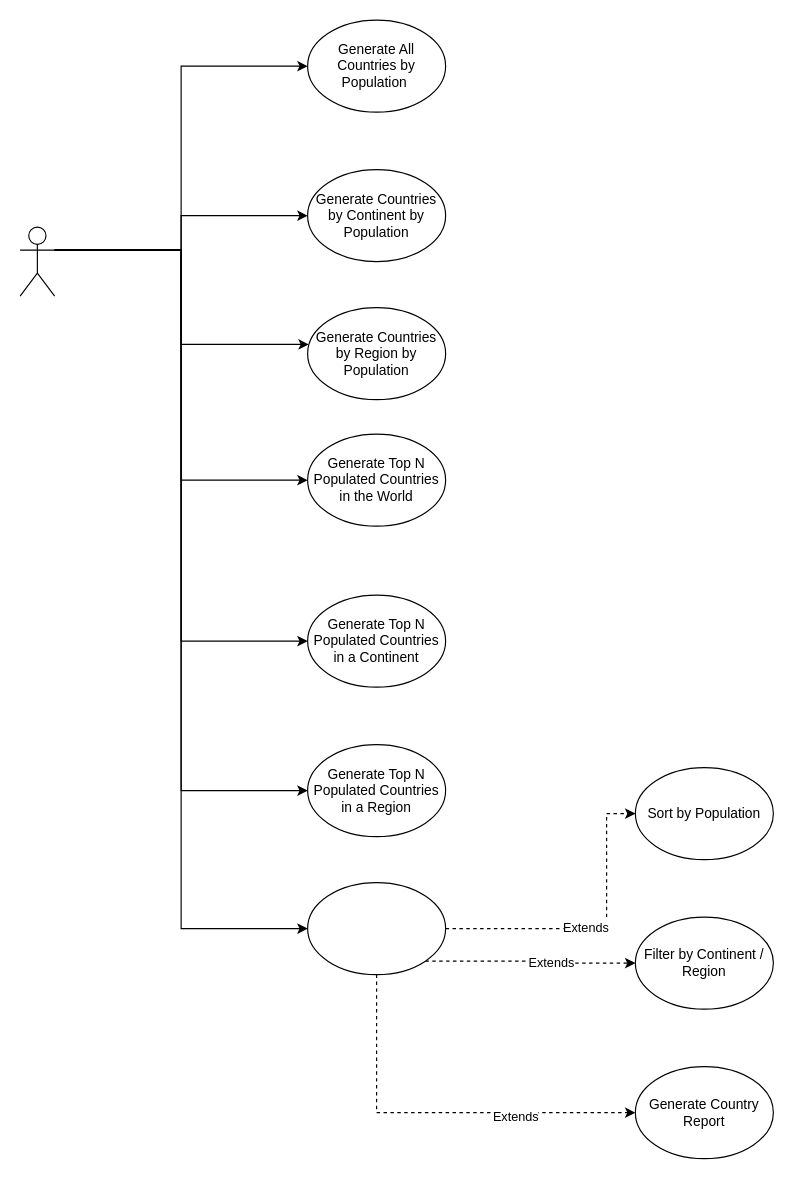
Some shapes in this 794 by 1179 pixel diagram are drawn without their labels. The shapes that lost their labels are listed below. From the top down, each one's centre as x and y in pixels, then its label:
At pixel 37 261: "Actor".
At pixel 376 928: "Enter N Value".
